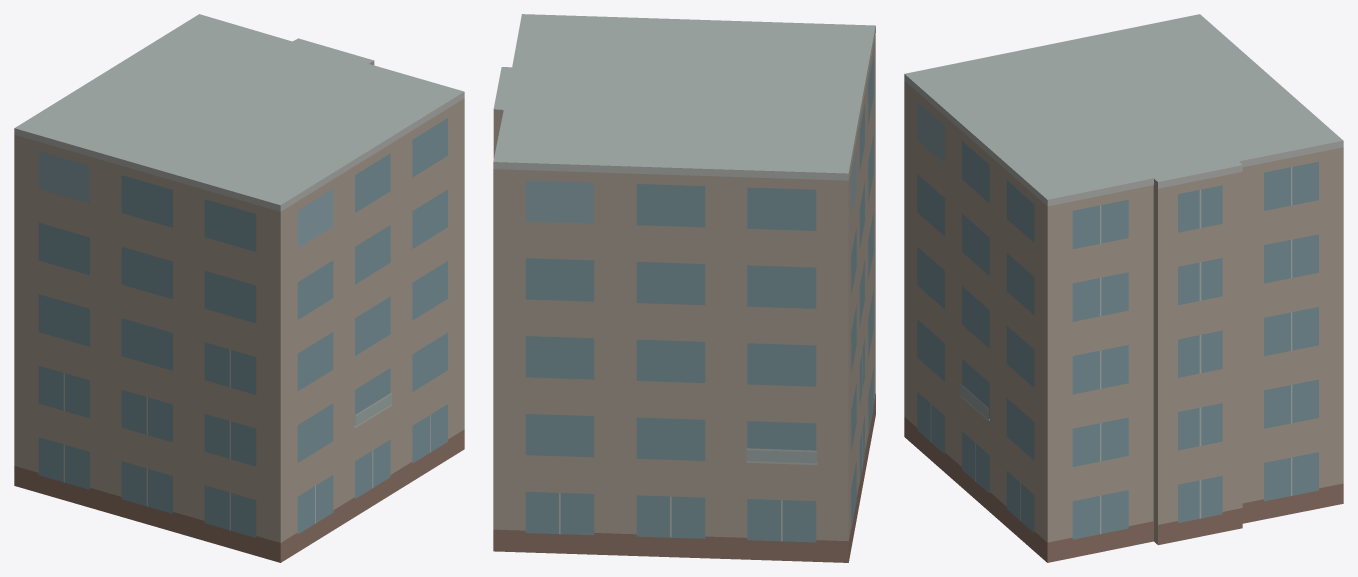
The model's file is survey-upis-32707950.glb.
3 renders of one model, left to right at view 1: azimuth 30°, elevation 25°; view 2: azimuth 150°, elevation 25°; view 3: azimuth 270°, elevation 25°, orthographic. The views are drawn at different scales.
Parts seen in each view (by area): view 1: survey-upis-32707950.tmp; view 2: survey-upis-32707950.tmp; view 3: survey-upis-32707950.tmp.
Part boxes in pixels (x1,y1,x2,y2): survey-upis-32707950.tmp: [14, 14, 464, 562]; survey-upis-32707950.tmp: [493, 14, 875, 562]; survey-upis-32707950.tmp: [904, 14, 1343, 562].
Bounding box in the file's own units: 14.67 × 13.35 × 14.65.
